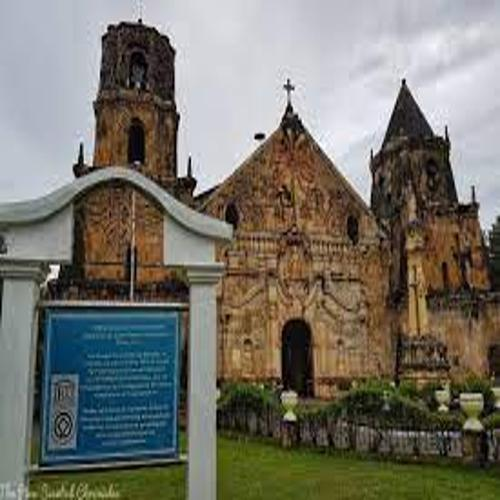Miagao Church: (66, 5, 500, 407)
